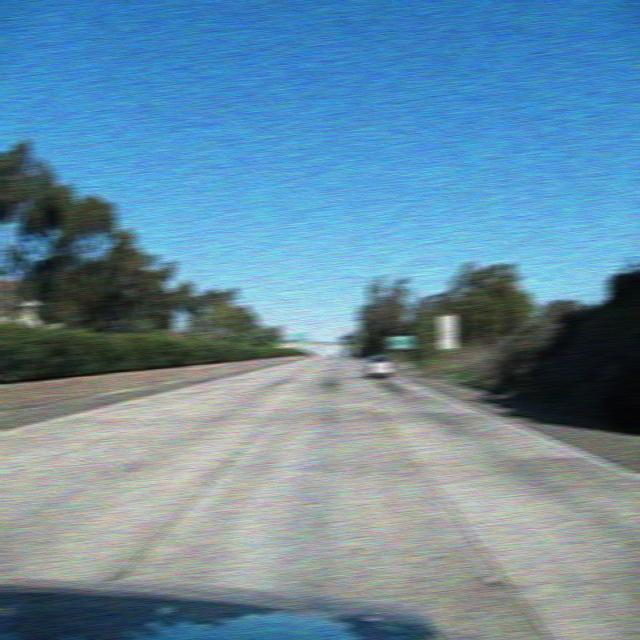speedLimit65: (437, 313, 456, 340)
